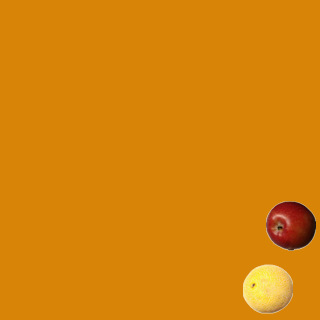Apple Braeburn: (265, 200, 315, 250)
Cantaloupe 1: (242, 263, 292, 313)
